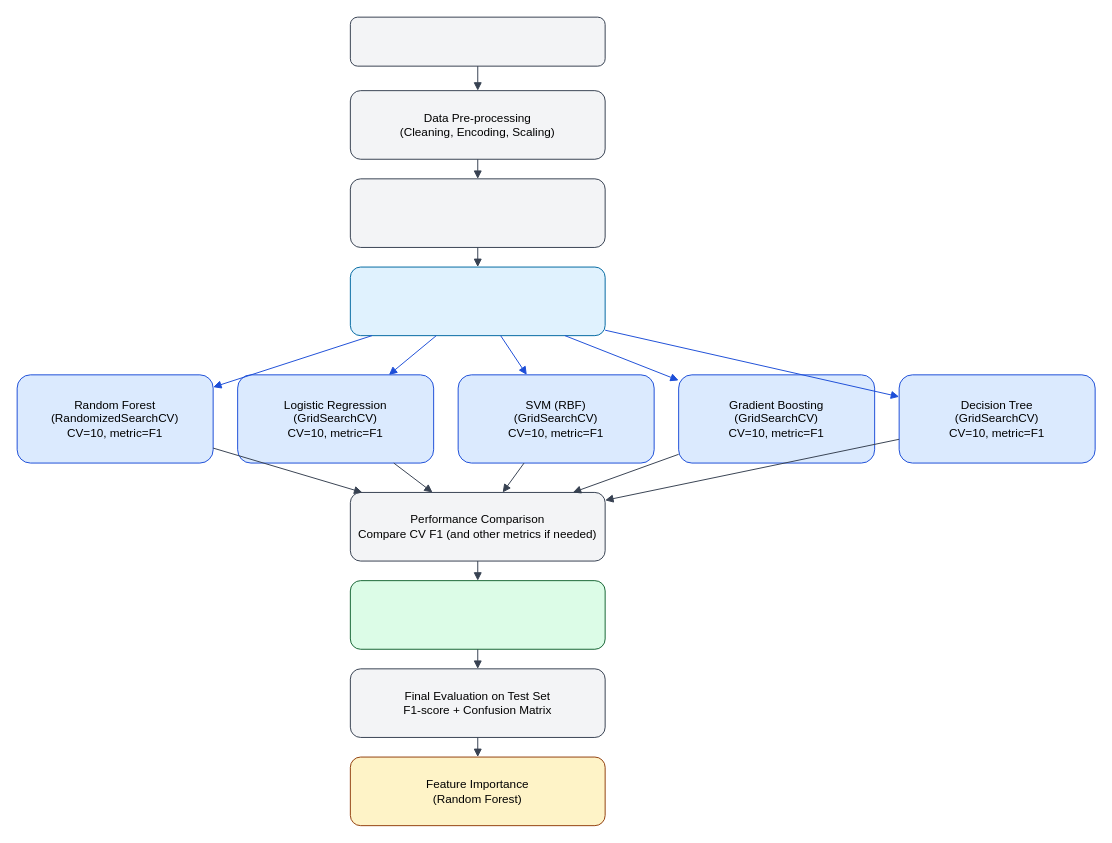
Image size: 1112x843. Some labels were removed from this diagram. Here are the shapes that lost their labels. From the top down, the centre of each, then its label:
(x=477, y=41): Raw Dataset
(x=477, y=212): Stratified Train–Test Split (90% Train / 10% Test)
(x=477, y=301): Model Pipelines (All Models) Preprocess + SMOTE + Classifier
(x=477, y=614): Best Model Selection (Highest CV F1-score)
